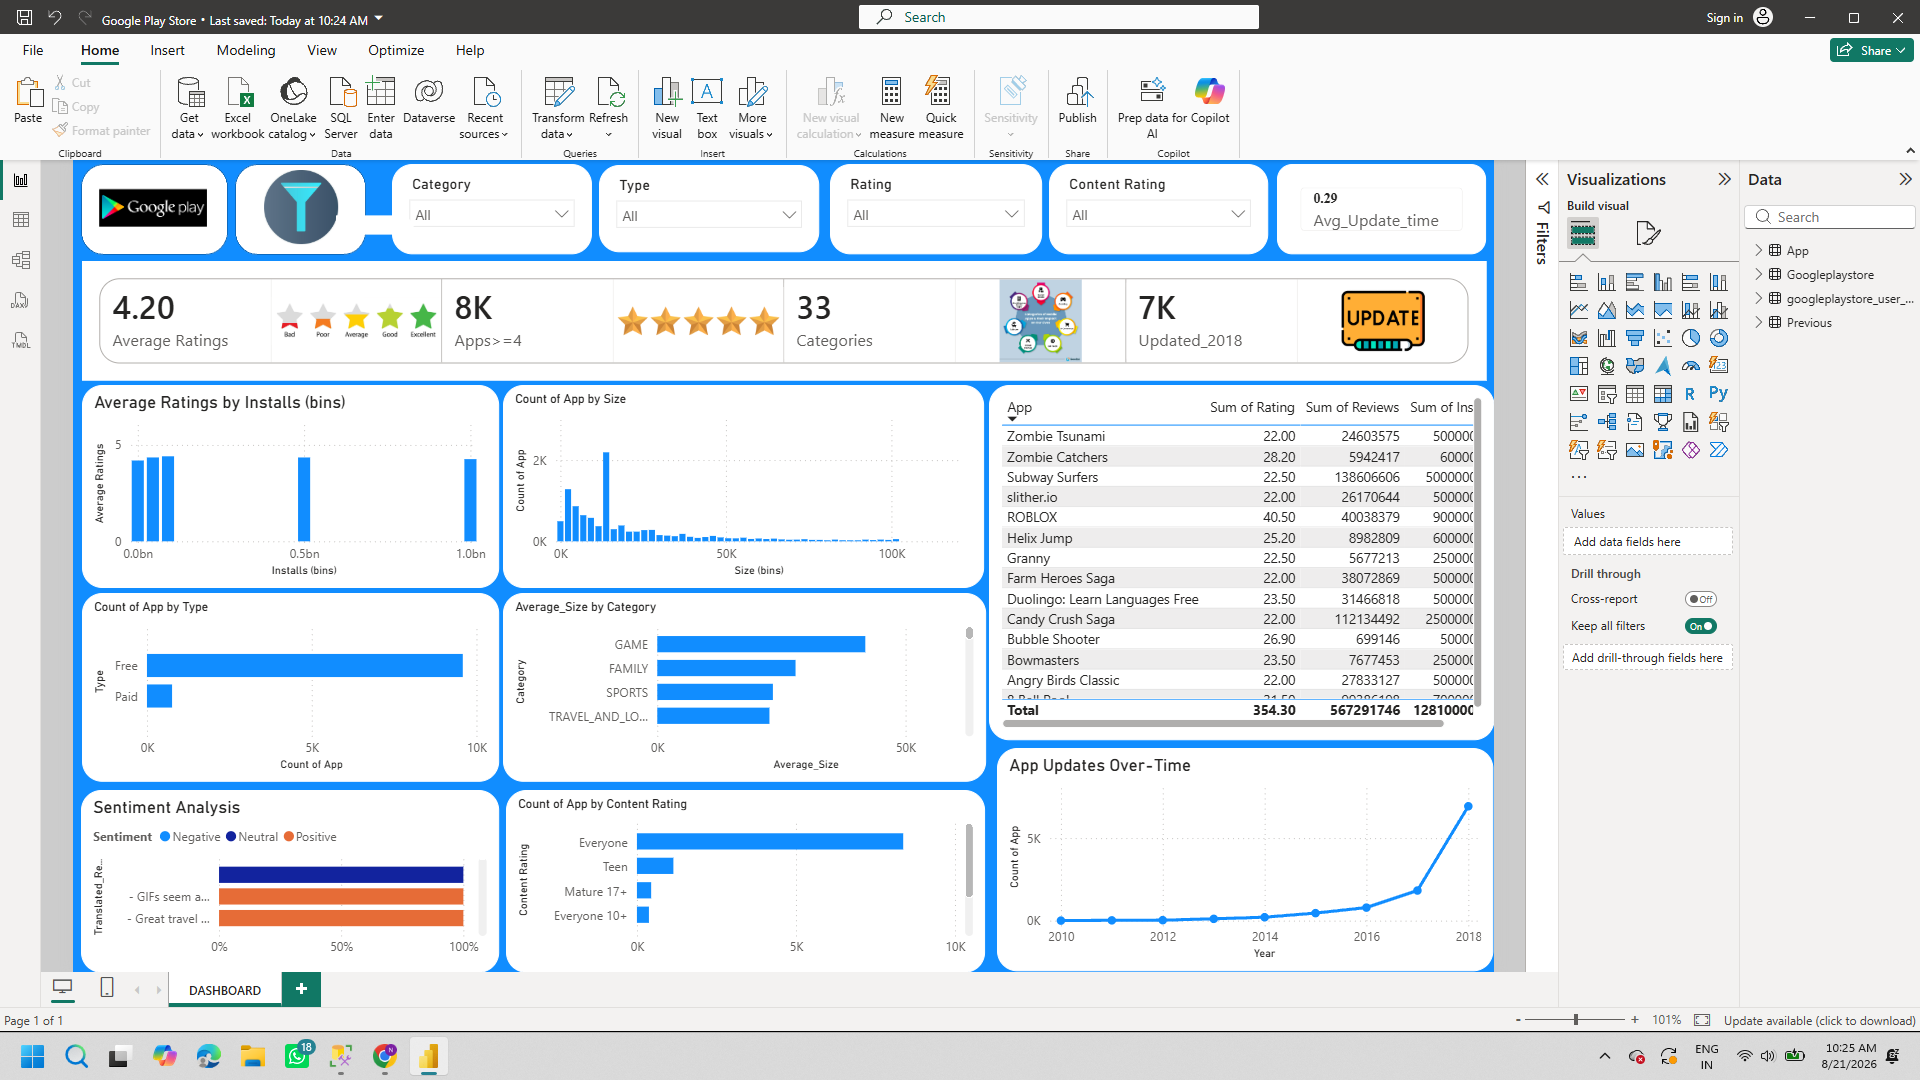

What the dashboard file says about the page in this screenshot:
{"tool":"powerbi","page":{"name":"DASHBOARD","canvas":[1400,800],"ordinal":0},"visuals":[{"type":"clusteredColumnChart","title":"Count of App by Size ","fields":{"Category":["Googlepalystore.Size (bins)"],"Y":["CountNonNull(Googlepalystore.App)"]},"box":[423.4,221.3,474.5,200],"z":0},{"type":"clusteredBarChart","fields":{"Category":["Googlepalystore.Type"],"Y":["CountNonNull(Googlepalystore.App)"]},"box":[8.5,426.6,410.6,186.2],"z":1000},{"type":"clusteredBarChart","fields":{"Category":["Googlepalystore.Content Rating"],"Y":["CountNonNull(Googlepalystore.App)"]},"box":[426.6,620.2,472.3,179.8],"z":2000},{"type":"clusteredBarChart","fields":{"Y":["Googlepalystore.Average_Size"],"Category":["Googlepalystore.Category"]},"box":[423.4,426.6,475.5,186.2],"z":5000},{"type":"slicer","fields":{"Values":["Googlepalystore.Category"]},"box":[313.8,4.3,196.8,89.4],"z":6000},{"type":"slicer","fields":{"Values":["Googlepalystore.Type"]},"box":[518.1,5.3,217,86.2],"z":7000},{"type":"slicer","fields":{"Values":["Googlepalystore.Rating"]},"box":[745.7,4.3,208.5,89.4],"z":8000},{"type":"slicer","fields":{"Values":["Googlepalystore.Content Rating"]},"box":[961.7,4.3,216,89.4],"z":9000},{"type":"shape","box":[7.9,3.9,144.8,89.7],"z":10000},{"type":"image","box":[7.9,15.8,141.9,61.1],"z":11000},{"type":"shape","box":[159.6,3.9,129.1,89.7],"z":12000},{"type":"image","box":[183.3,9.9,82.8,72.9],"z":13000},{"type":"shape","box":[259.1,45.3,77.8,37.4],"z":14000},{"type":"cardVisual","fields":{"Data":["Googlepalystore.Average Ratings","Googlepalystore.Rating_Above_4","Googlepalystore.Unique Category","Googlepalystore.Apps Updated_2018"]},"box":[8.5,100,1384,118.1],"z":15000},{"type":"lineChart","title":"App Updates Over-Time","fields":{"Category":["Googlepalystore.Last Updated.Variation.Date Hierarchy.Year","Googlepalystore.Last Updated.Variation.Date Hierarchy.Quarter","Googlepalystore.Last Updated.Variation.Date Hierarchy.Month","Googlepalystore.Last Updated.Variation.Date Hierarchy.Day"],"Y":["CountNonNull(Googlepalystore.App)"]},"box":[910.6,579.8,489.4,220.2],"z":16000},{"type":"tableEx","fields":{"Values":["Googlepalystore.App","Sum(Googlepalystore.Rating)","Sum(Googlepalystore.Reviews)","Sum(Googlepalystore.Installs)"]},"box":[902.1,221.3,497.9,350],"z":17000},{"type":"hundredPercentStackedBarChart","title":"Sentiment Analysis","fields":{"Series":["googleplaystore_user_reviews.Sentiment"],"Y":["CountNonNull(Googleplaystore.Rating Group)"],"Category":["googleplaystore_user_reviews.Translated_Review"]},"box":[7.4,620.2,411.7,179.8],"z":17001},{"type":"clusteredColumnChart","title":"Average Ratings by Installs (bins)","fields":{"Y":["Googlepalystore.Average Ratings"],"Category":["Googlepalystore.Installs (bins)"]},"box":[8.5,221.3,410.6,200],"z":17002},{"type":"cardVisual","fields":{"Data":["Googlepalystore.Average_Update_time"]},"box":[1186.2,4.3,206.4,89.4],"z":17003}]}

Visuals, with their boxes on the page's 1400x800 design canvas (x1, y1, x2, y2). These are canvas units, not pixel positions in the 1920x1080 screenshot, which may show the page scaled, cropped or inside an application window:
"Count of App by Size " clusteredColumnChart: box(423, 221, 898, 421)
clusteredBarChart - Googlepalystore.Type x CountNonNull(Googlepalystore.App): box(8, 427, 419, 613)
clusteredBarChart - Googlepalystore.Content Rating x CountNonNull(Googlepalystore.App): box(427, 620, 899, 800)
clusteredBarChart - Googlepalystore.Average_Size x Googlepalystore.Category: box(423, 427, 899, 613)
slicer - Googlepalystore.Category: box(314, 4, 511, 94)
slicer - Googlepalystore.Type: box(518, 5, 735, 92)
slicer - Googlepalystore.Rating: box(746, 4, 954, 94)
slicer - Googlepalystore.Content Rating: box(962, 4, 1178, 94)
shape: box(8, 4, 153, 94)
image: box(8, 16, 150, 77)
shape: box(160, 4, 289, 94)
image: box(183, 10, 266, 83)
shape: box(259, 45, 337, 83)
cardVisual - Googlepalystore.Average Ratings x Googlepalystore.Rating_Above_4: box(8, 100, 1392, 218)
"App Updates Over-Time" lineChart: box(911, 580, 1400, 800)
tableEx - Googlepalystore.App x Sum(Googlepalystore.Rating): box(902, 221, 1400, 571)
"Sentiment Analysis" hundredPercentStackedBarChart: box(7, 620, 419, 800)
"Average Ratings by Installs (bins)" clusteredColumnChart: box(8, 221, 419, 421)
cardVisual - Googlepalystore.Average_Update_time: box(1186, 4, 1393, 94)
